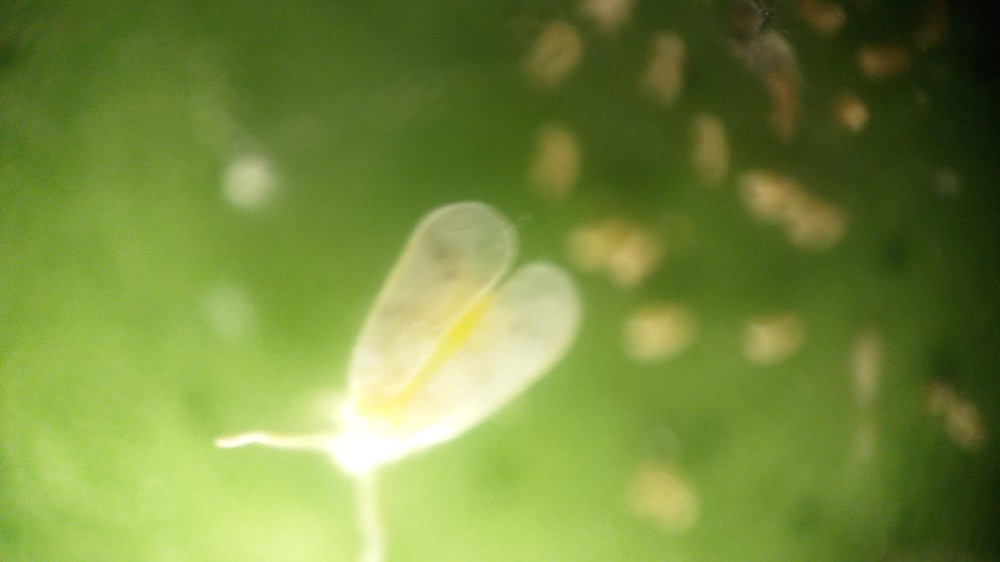Mosca Blanca: (223, 207, 602, 562)
